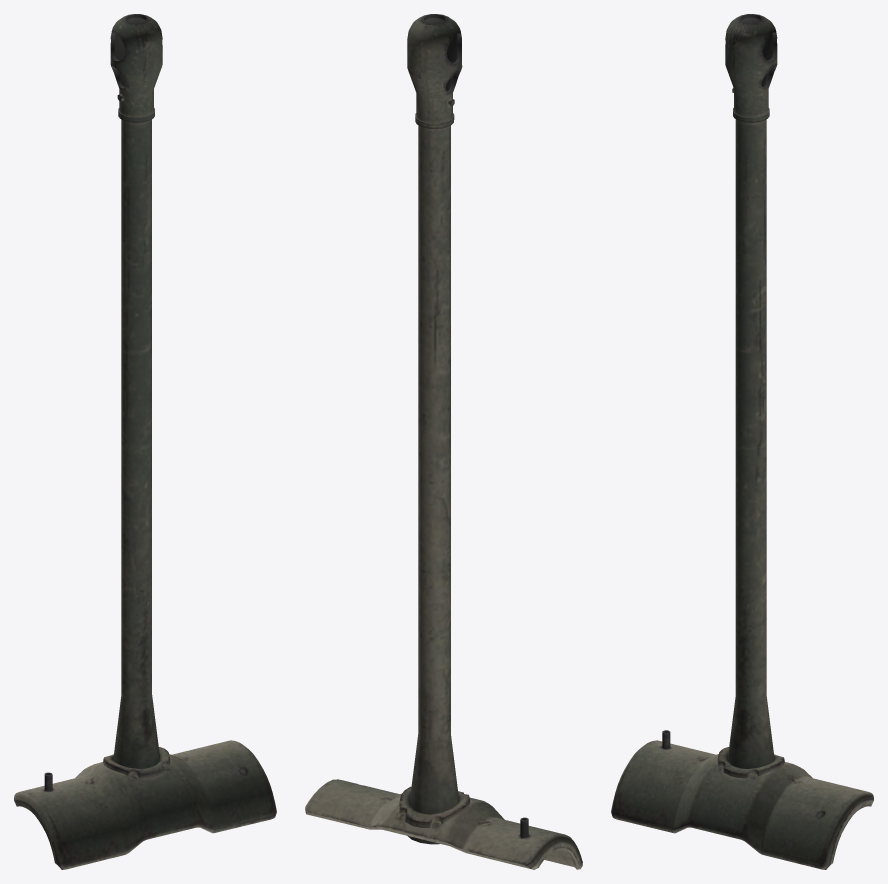
File: Gun_01.glb
3 views of the same model, side by side, from view 1: azimuth 30°, elevation 25°; view 2: azimuth 150°, elevation 25°; view 3: azimuth 330°, elevation 25° (orthographic). The views are drawn at different scales.
Parts seen in each view (by area): view 1: set_0_group_0; view 2: set_0_group_0; view 3: set_0_group_0.
Boxes of the visible parts, bbox=[...] form: set_0_group_0: bbox=[14, 14, 276, 869]; set_0_group_0: bbox=[305, 14, 582, 869]; set_0_group_0: bbox=[611, 14, 873, 869].
Bounding box in the file's own units: 1.04 × 3.66 × 0.4708.
1 material, 1 textured.
